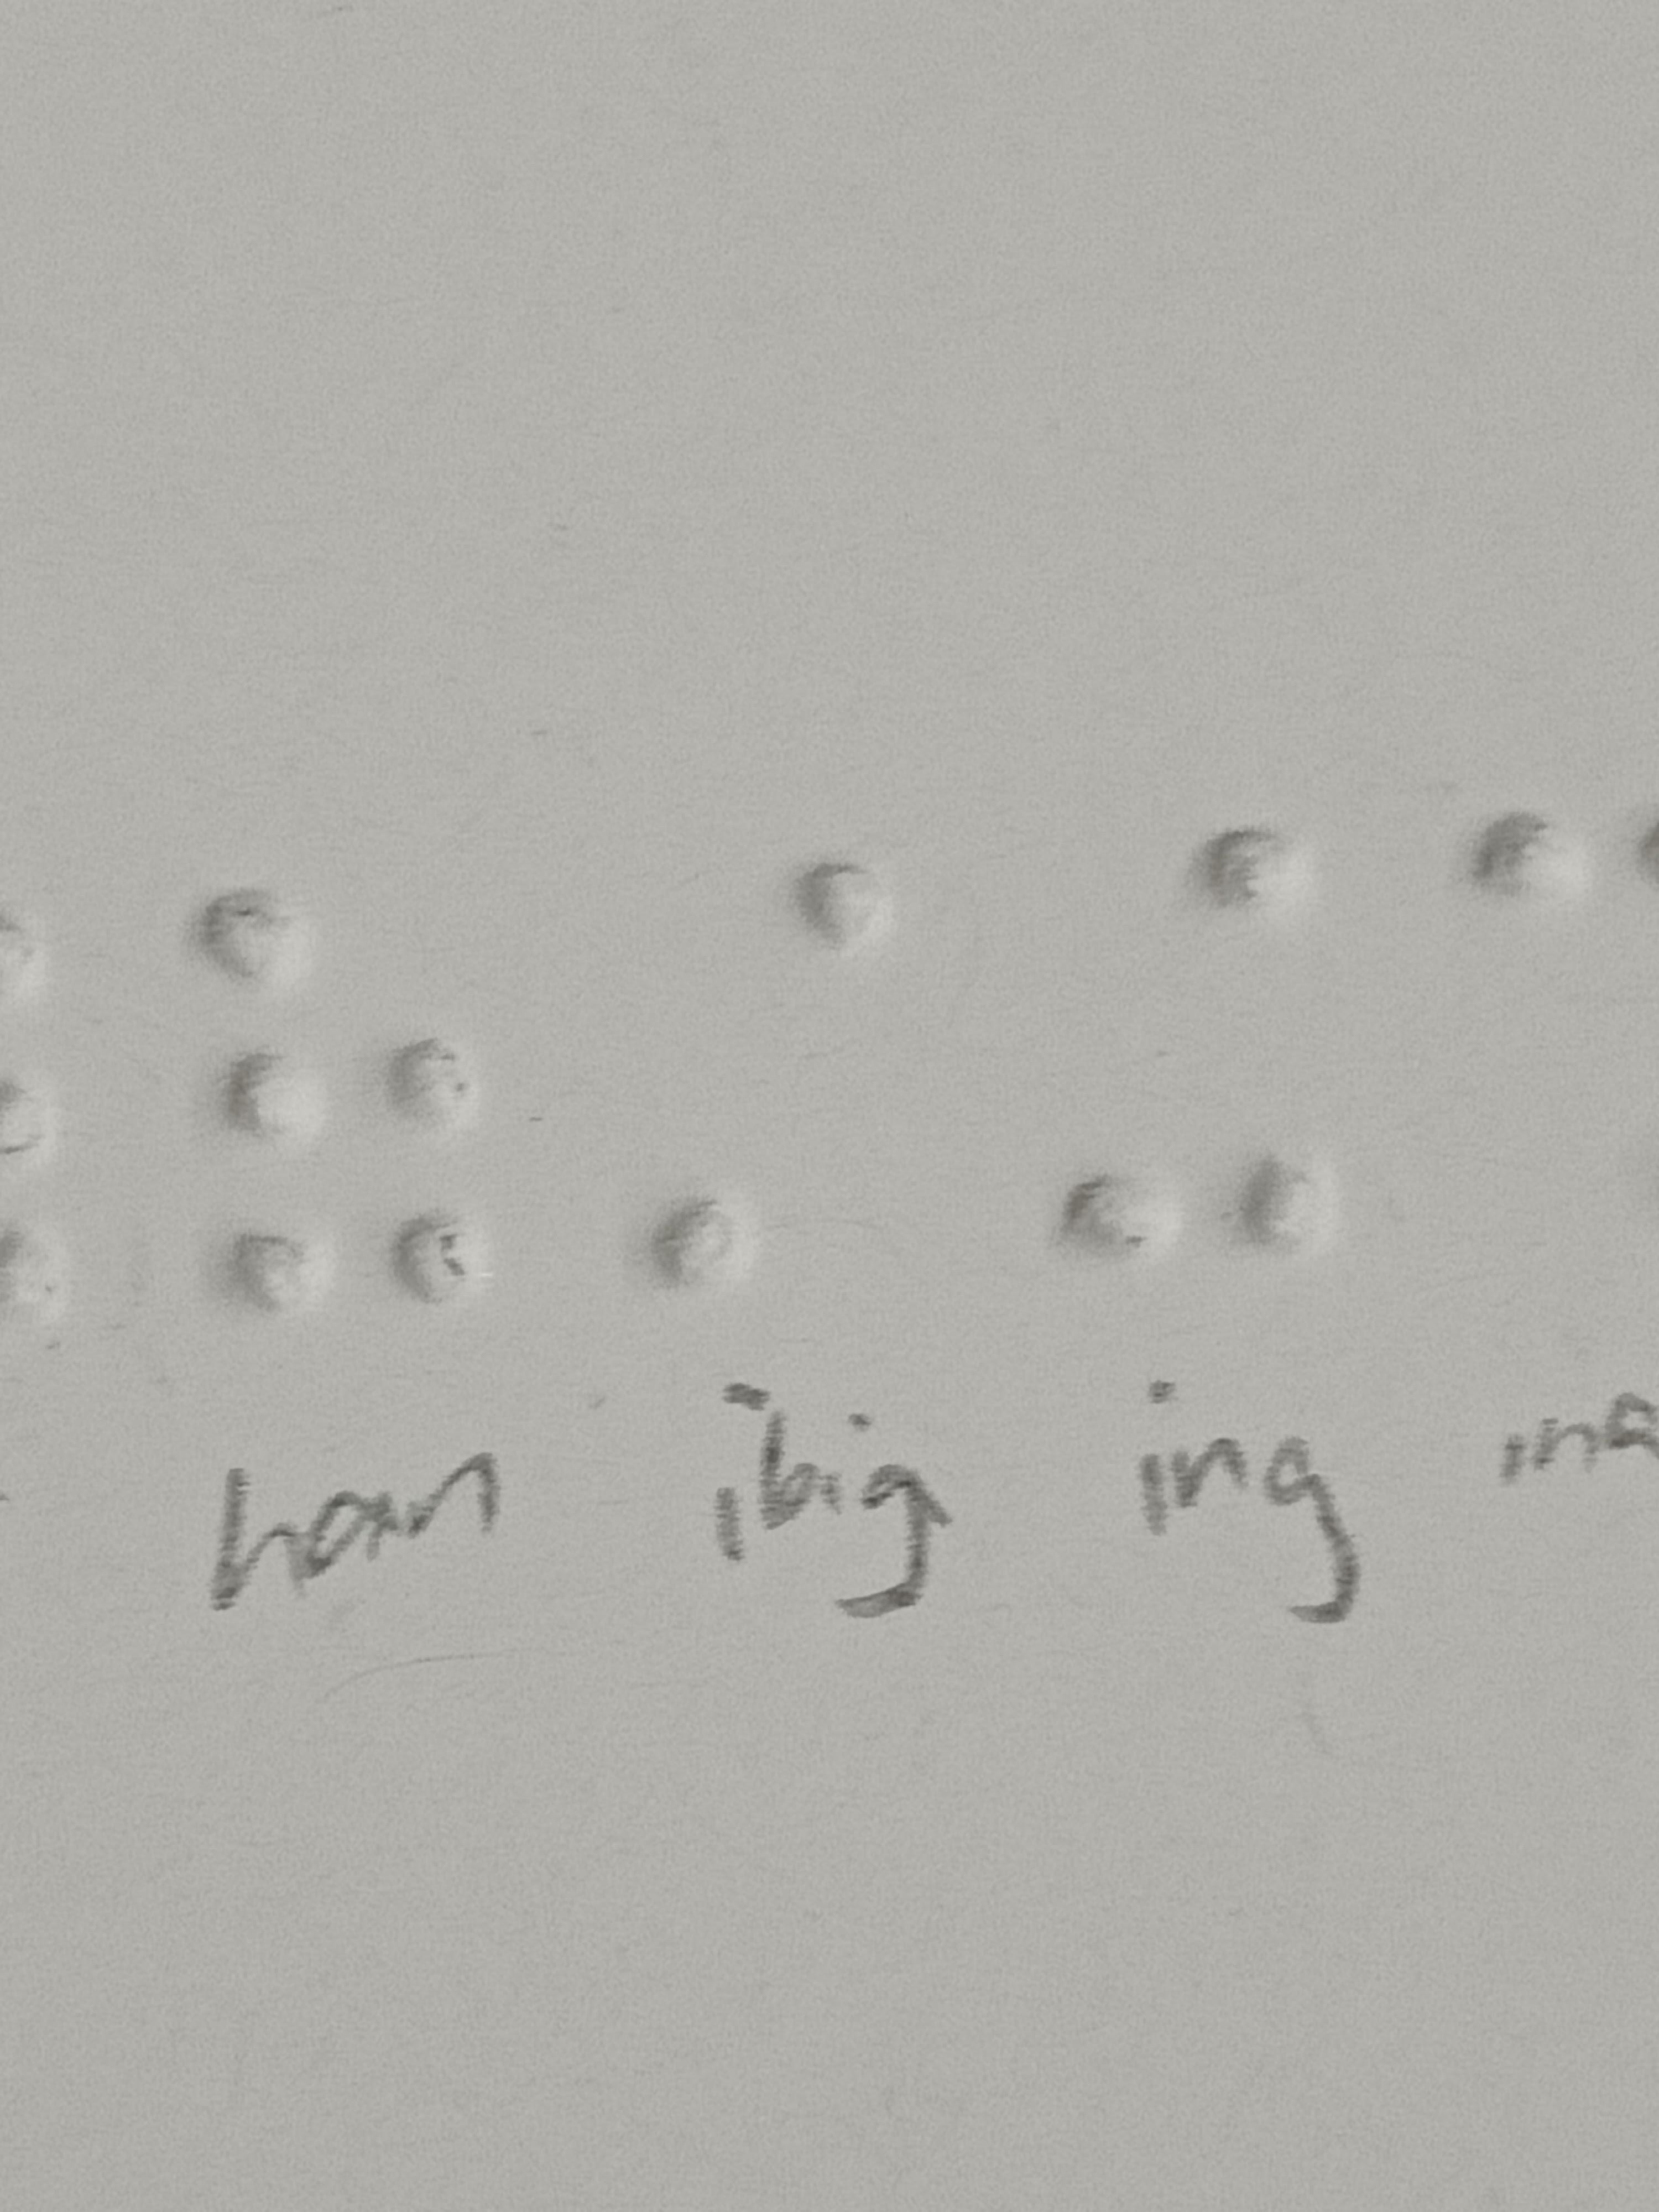one_cell_part_word_han: (200, 859, 491, 1308)
one_cell_part_word_ibig: (643, 841, 908, 1299)
one_cell_part_word_ing: (1068, 826, 1328, 1282)
